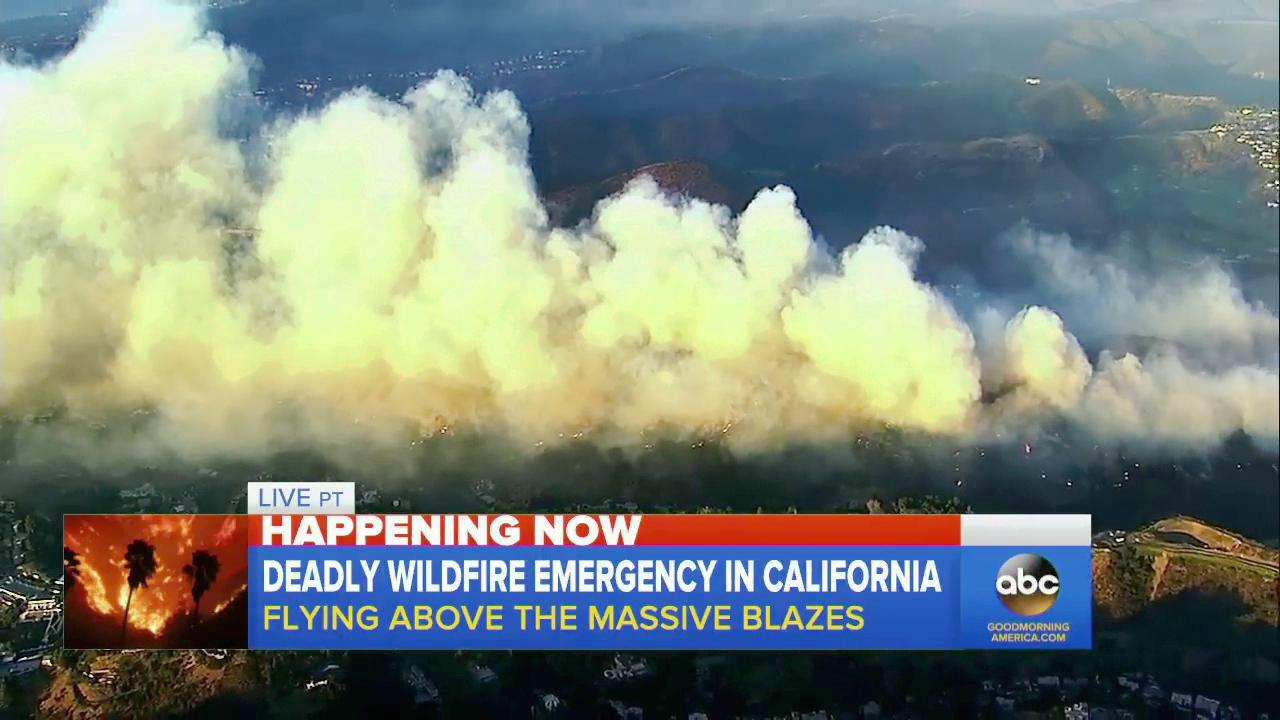smoke: (0, 2, 1278, 475), (271, 60, 802, 468), (803, 218, 1280, 465), (0, 0, 254, 347)
